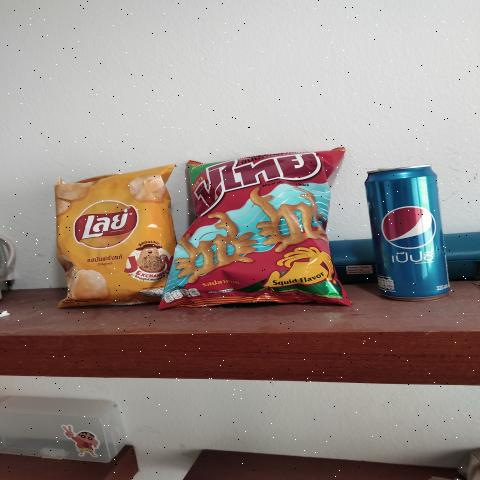pepsi_blue: (364, 159, 450, 301)
